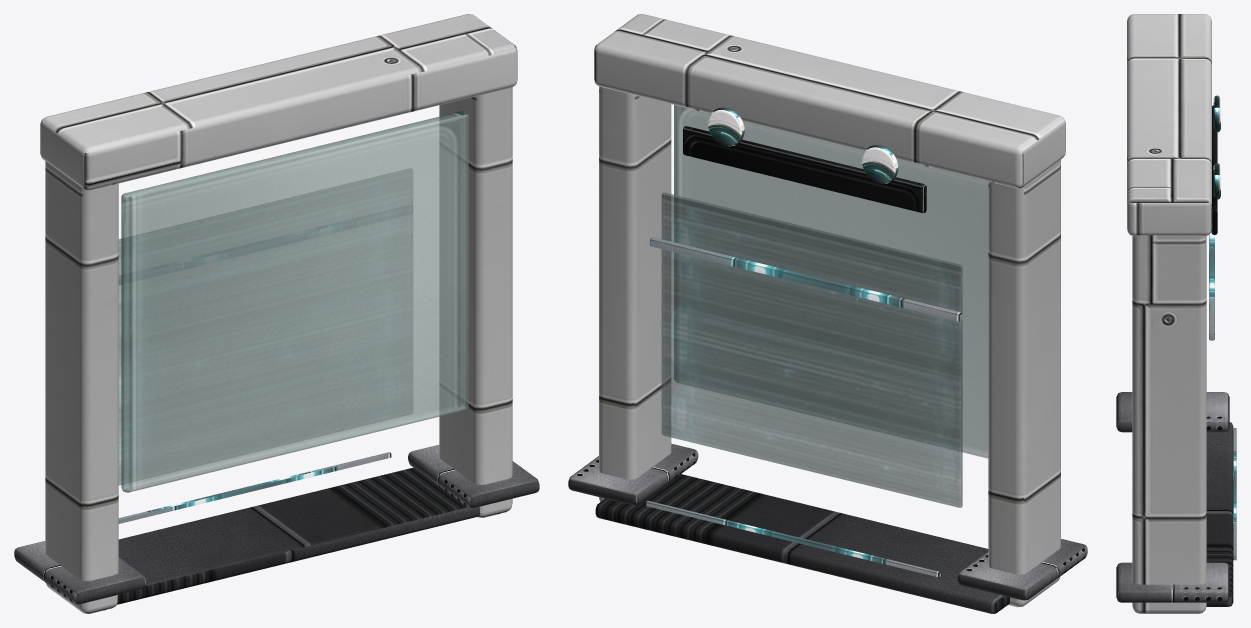
Rendered from hp_l4_cineclinic_decon_gate.glb.
3 views of the same model, side by side, from view 1: azimuth 30°, elevation 25°; view 2: azimuth 150°, elevation 25°; view 3: azimuth 270°, elevation 25° (orthographic). The views are drawn at different scales.
Parts seen in each view (by area): view 1: rear_frosted_panel, front_scan_veil, top_scanner_bridge, left_white_column, right_white_column, floor_threshold_black_rubber, left_floor_foot_plate, right_floor_foot_plate, lower_cyan_floor_line; view 2: rear_frosted_panel, front_scan_veil, top_scanner_bridge, left_white_column, right_white_column, floor_threshold_black_rubber, front_black_sensor_band, left_floor_foot_plate, right_floor_foot_plate, cyan_scan_slit, lower_cyan_floor_line, top_lens_left (+1 smaller); view 3: right_white_column, top_scanner_bridge, floor_threshold_black_rubber, right_floor_foot_plate, left_floor_foot_plate, cyan_scan_slit, front_black_sensor_band, lower_cyan_floor_line, top_lens_right, top_lens_left.
Boxes of the visible parts, x1,y1,x2,y2 form: rear_frosted_panel: [121, 111, 468, 492]; front_scan_veil: [118, 169, 412, 485]; top_scanner_bridge: [40, 14, 517, 190]; left_white_column: [45, 161, 118, 613]; right_white_column: [439, 87, 512, 517]; floor_threshold_black_rubber: [117, 467, 480, 604]; left_floor_foot_plate: [14, 541, 145, 604]; right_floor_foot_plate: [408, 445, 539, 507]; lower_cyan_floor_line: [118, 452, 391, 523]; rear_frosted_panel: [674, 105, 988, 458]; front_scan_veil: [661, 192, 962, 507]; top_scanner_bridge: [594, 14, 1065, 188]; left_white_column: [988, 159, 1060, 607]; right_white_column: [599, 86, 671, 502]; floor_threshold_black_rubber: [595, 474, 1009, 613]; front_black_sensor_band: [683, 126, 926, 212]; left_floor_foot_plate: [957, 539, 1087, 600]; right_floor_foot_plate: [568, 443, 698, 505]; cyan_scan_slit: [650, 237, 962, 321]; lower_cyan_floor_line: [646, 500, 940, 577]; top_lens_left: [862, 145, 898, 183]; right_white_column: [1132, 235, 1206, 613]; top_scanner_bridge: [1127, 14, 1211, 236]; floor_threshold_black_rubber: [1206, 422, 1233, 606]; right_floor_foot_plate: [1116, 562, 1229, 602]; left_floor_foot_plate: [1116, 392, 1229, 432]; cyan_scan_slit: [1209, 231, 1214, 340]; front_black_sensor_band: [1211, 105, 1217, 234]; lower_cyan_floor_line: [1233, 428, 1236, 560]; top_lens_right: [1213, 162, 1220, 199]; top_lens_left: [1213, 95, 1220, 131].
Bounding box in the file's own units: 2.7 × 2.6 × 0.679.
8 materials, 8 textured.
